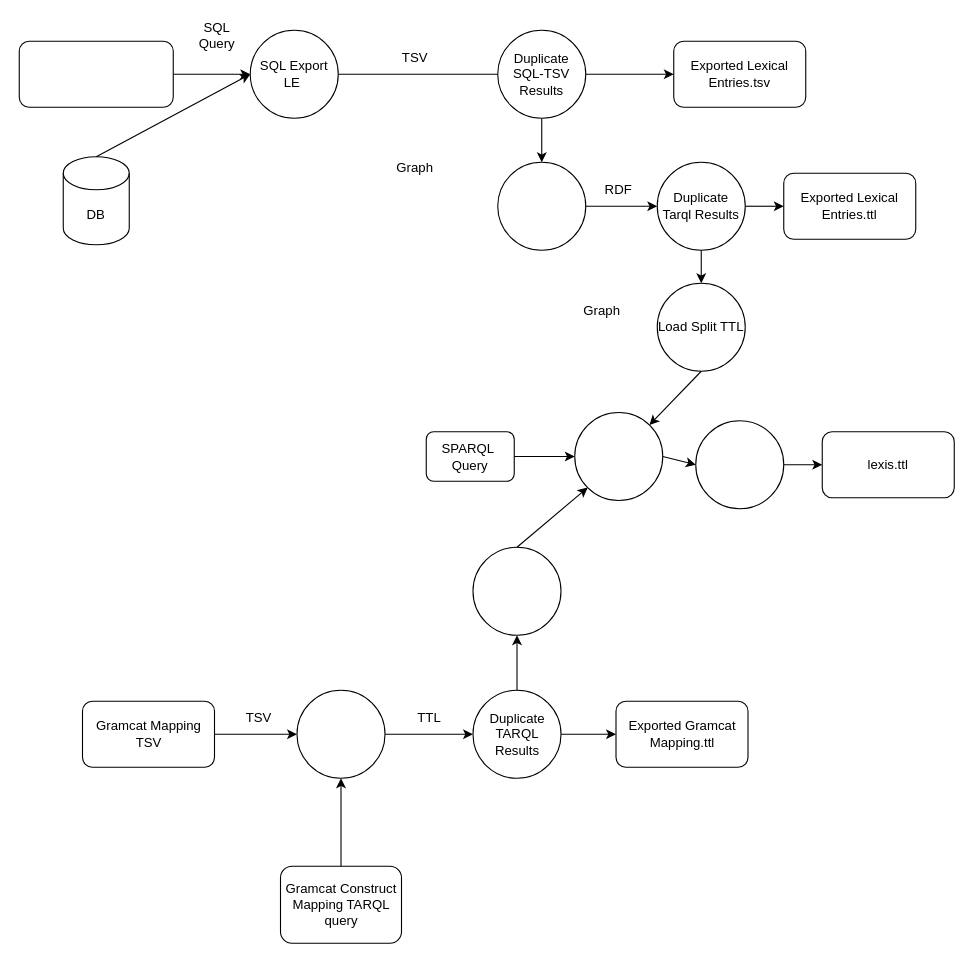
Image size: 974x963. Some labels were removed from this diagram. The box of each missing label's shape, as (x1, y1, x2, y2) in pixels:
Export Lexical Entries SQL Query: (18, 40, 173, 107)
Load Graph: (472, 546, 561, 635)
Tarql Gramcat Mapping: (296, 689, 385, 778)
TARQL Lexical Entry Creation: (497, 161, 586, 250)
Update POS: (574, 411, 663, 501)
Write TTL: (695, 420, 784, 509)
